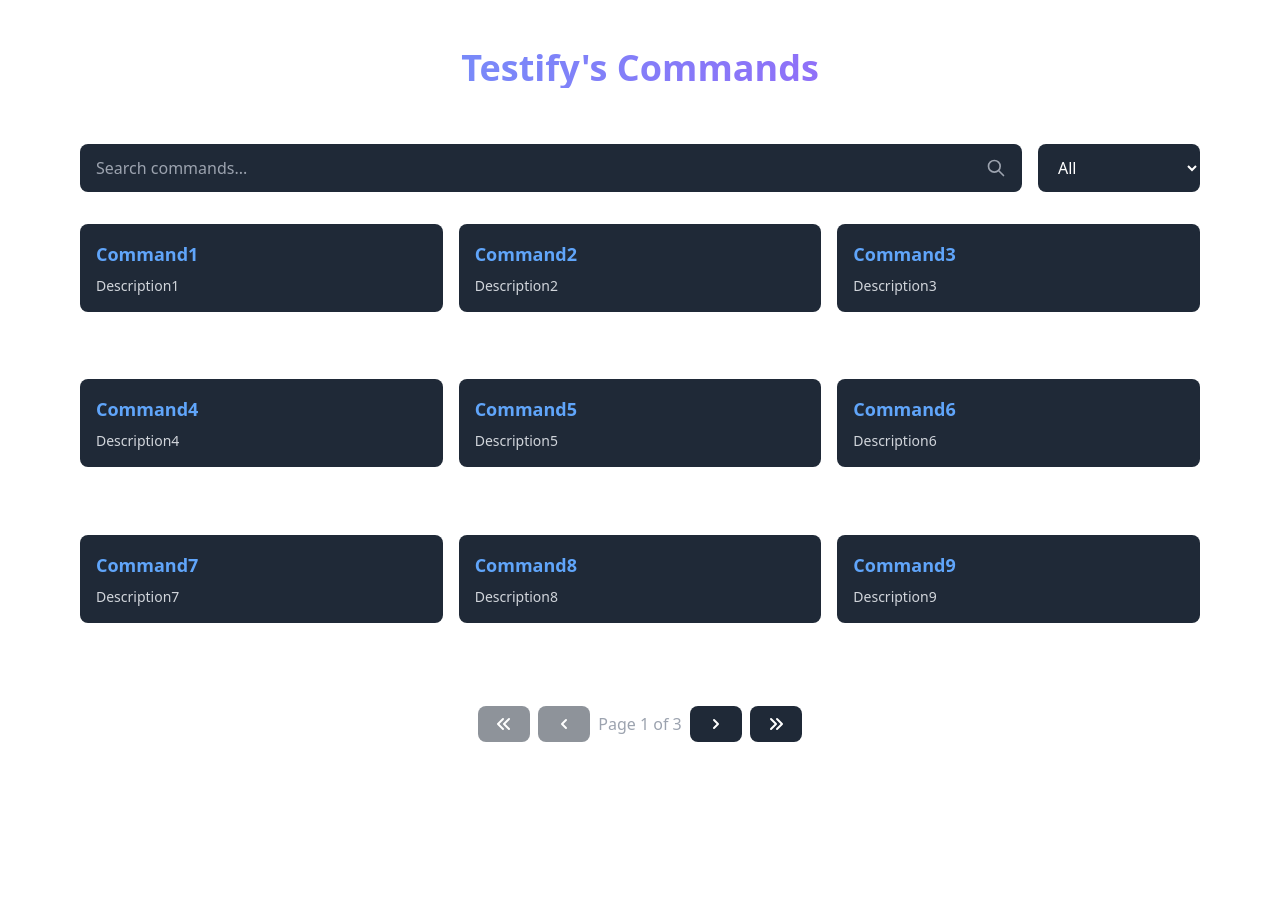
Test: CommandSearch › should reset page number when search term changes
Type "Command10" into the field.
click(551, 168); type("Command10")  # box [80,144,1022,192]
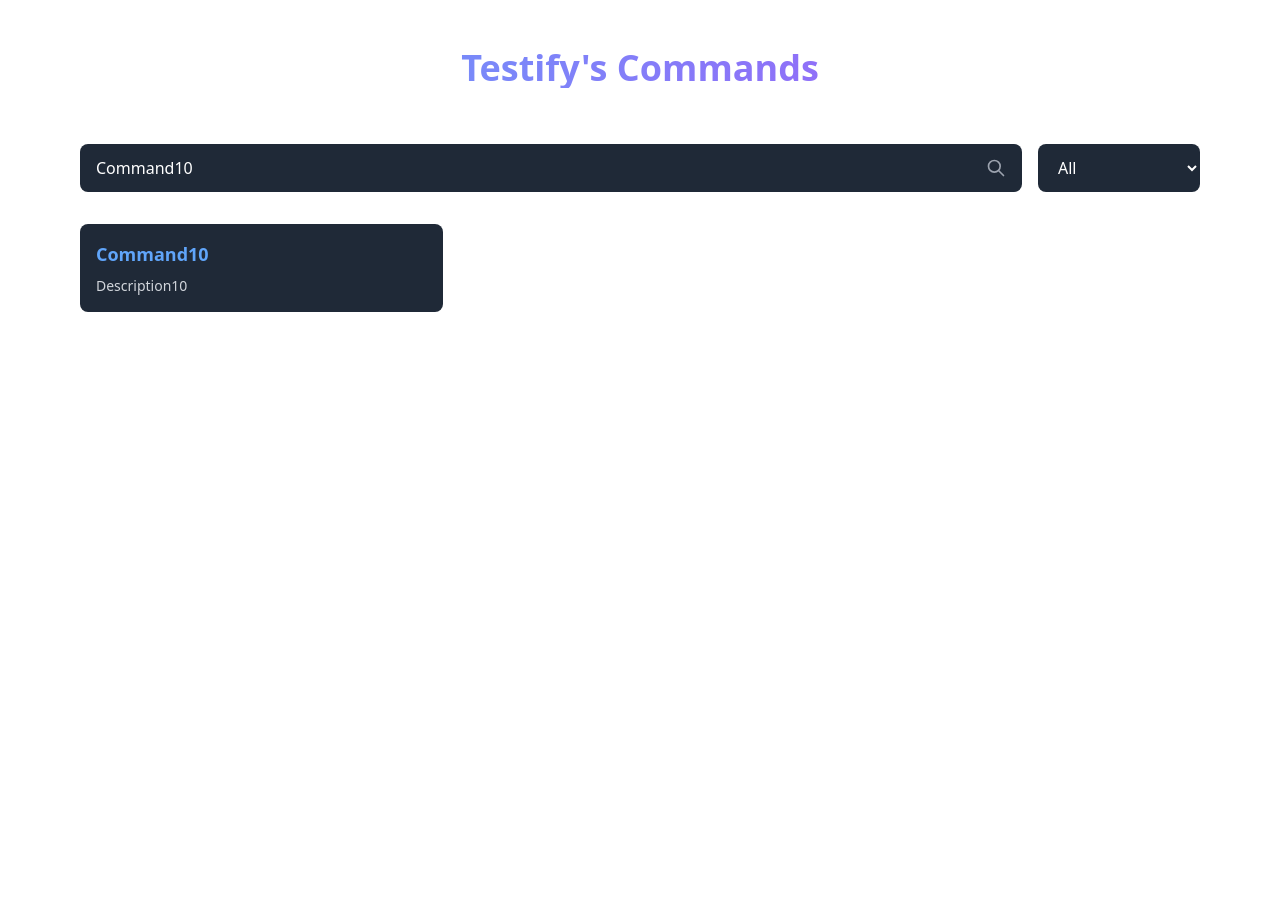
Result: the heading "Command10" is shown at [96,242,209,266]
